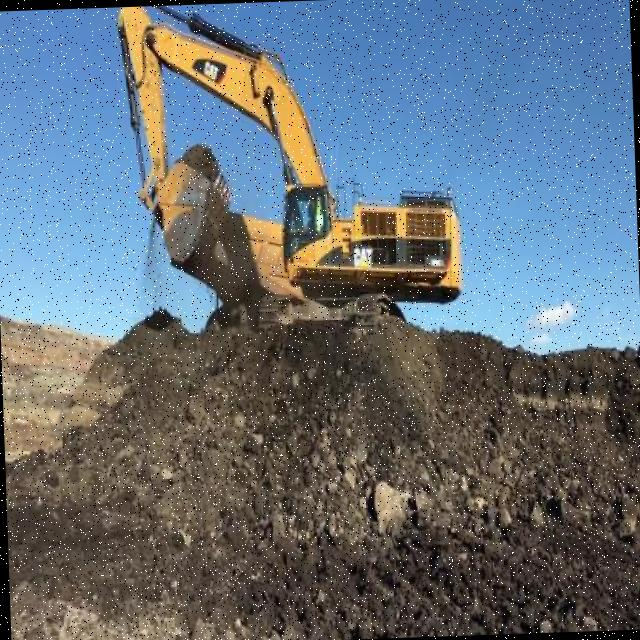Excavator: (109, 0, 466, 339)
